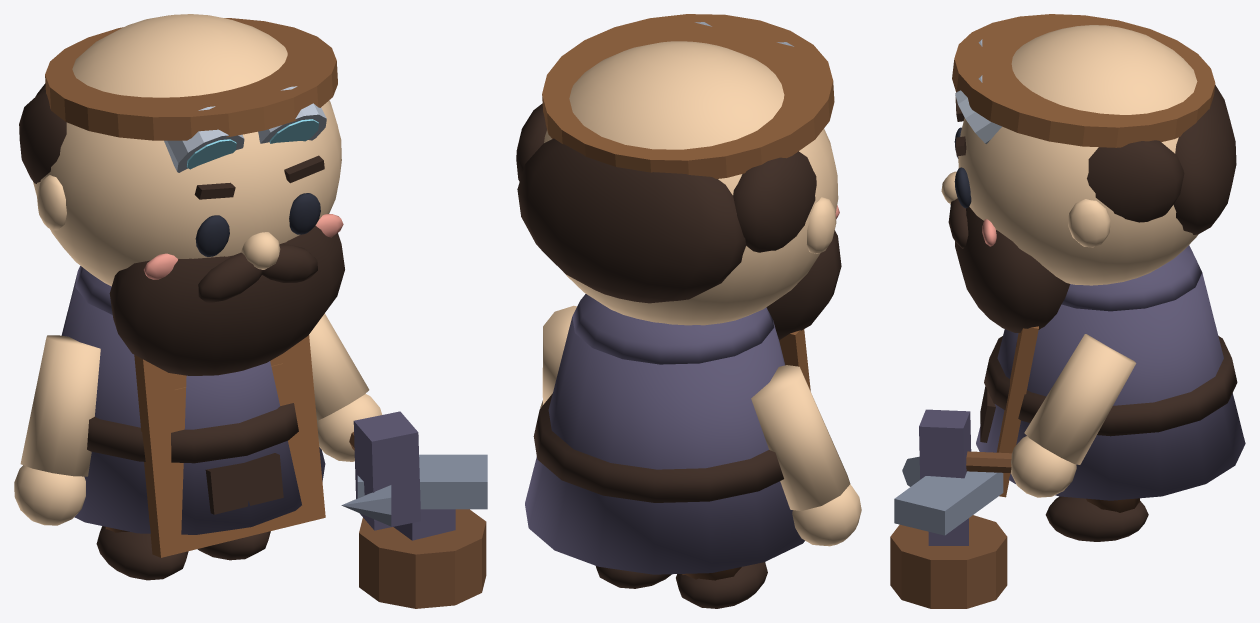
File: npc_blacksmith.glb
3 views of the same model, side by side, from view 1: azimuth 30°, elevation 25°; view 2: azimuth 150°, elevation 25°; view 3: azimuth 270°, elevation 25° (orthographic). The views are drawn at different scales.
Parts seen in each view (by area): view 1: head_ball, beard, torso, goggle_strap, apron, stump, arm_0, belt, hammer_head, anvil_top, arm_1, apron_pocket (+18 smaller); view 2: torso, head_ball, hair_back, goggle_strap, belt, arm_0, torso_top, hair_side_0, beard, hand_0, foot_0, arm_1 (+4 smaller); view 3: head_ball, torso, goggle_strap, stump, beard, arm_1, hair_side_1, belt, hair_back, anvil_top, torso_top, hammer_head (+11 smaller).
Part boxes in pixels (x1,y1,x2,y2): head_ball: (33, 14, 341, 286); beard: (109, 225, 344, 375); torso: (61, 272, 325, 534); goggle_strap: (45, 18, 337, 140); apron: (134, 335, 325, 557); stump: (359, 509, 486, 608); arm_0: (20, 335, 100, 476); belt: (87, 403, 298, 463); hammer_head: (353, 411, 420, 530); anvil_top: (357, 454, 487, 509); arm_1: (309, 313, 369, 420); apron_pocket: (205, 453, 283, 514); torso: (525, 317, 804, 574); head_ball: (544, 41, 838, 325); hair_back: (517, 138, 745, 303); goggle_strap: (542, 14, 834, 178); belt: (533, 393, 783, 502); arm_0: (751, 365, 850, 510); torso_top: (572, 294, 774, 364); hair_side_0: (733, 151, 816, 252); beard: (766, 230, 841, 340); hand_0: (792, 484, 861, 546); foot_0: (676, 562, 767, 608); arm_1: (542, 305, 576, 404); head_ball: (958, 25, 1197, 285); torso: (976, 273, 1245, 500); goggle_strap: (952, 14, 1215, 147); stump: (890, 515, 1007, 608); beard: (955, 206, 1069, 332); arm_1: (1024, 334, 1136, 464); hair_side_1: (1087, 140, 1184, 222); belt: (984, 336, 1237, 436); hair_back: (1173, 85, 1236, 234); anvil_top: (894, 471, 1003, 535); torso_top: (1061, 245, 1202, 311); hammer_head: (919, 409, 971, 479).
Size of the model in its own units: 0.899 by 1.18 by 0.79.
